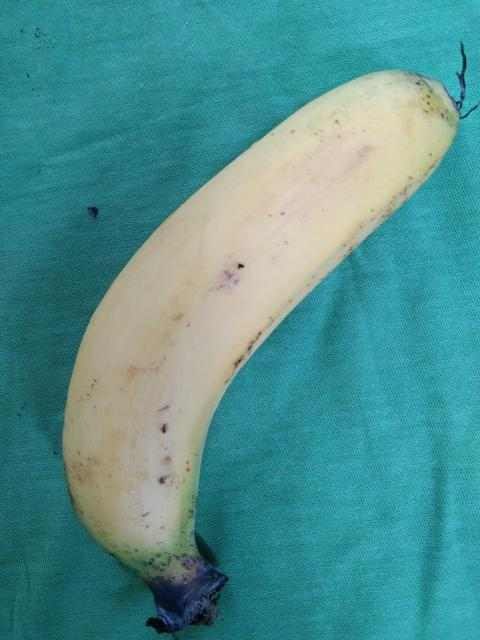freshripe: (46, 62, 470, 601)
